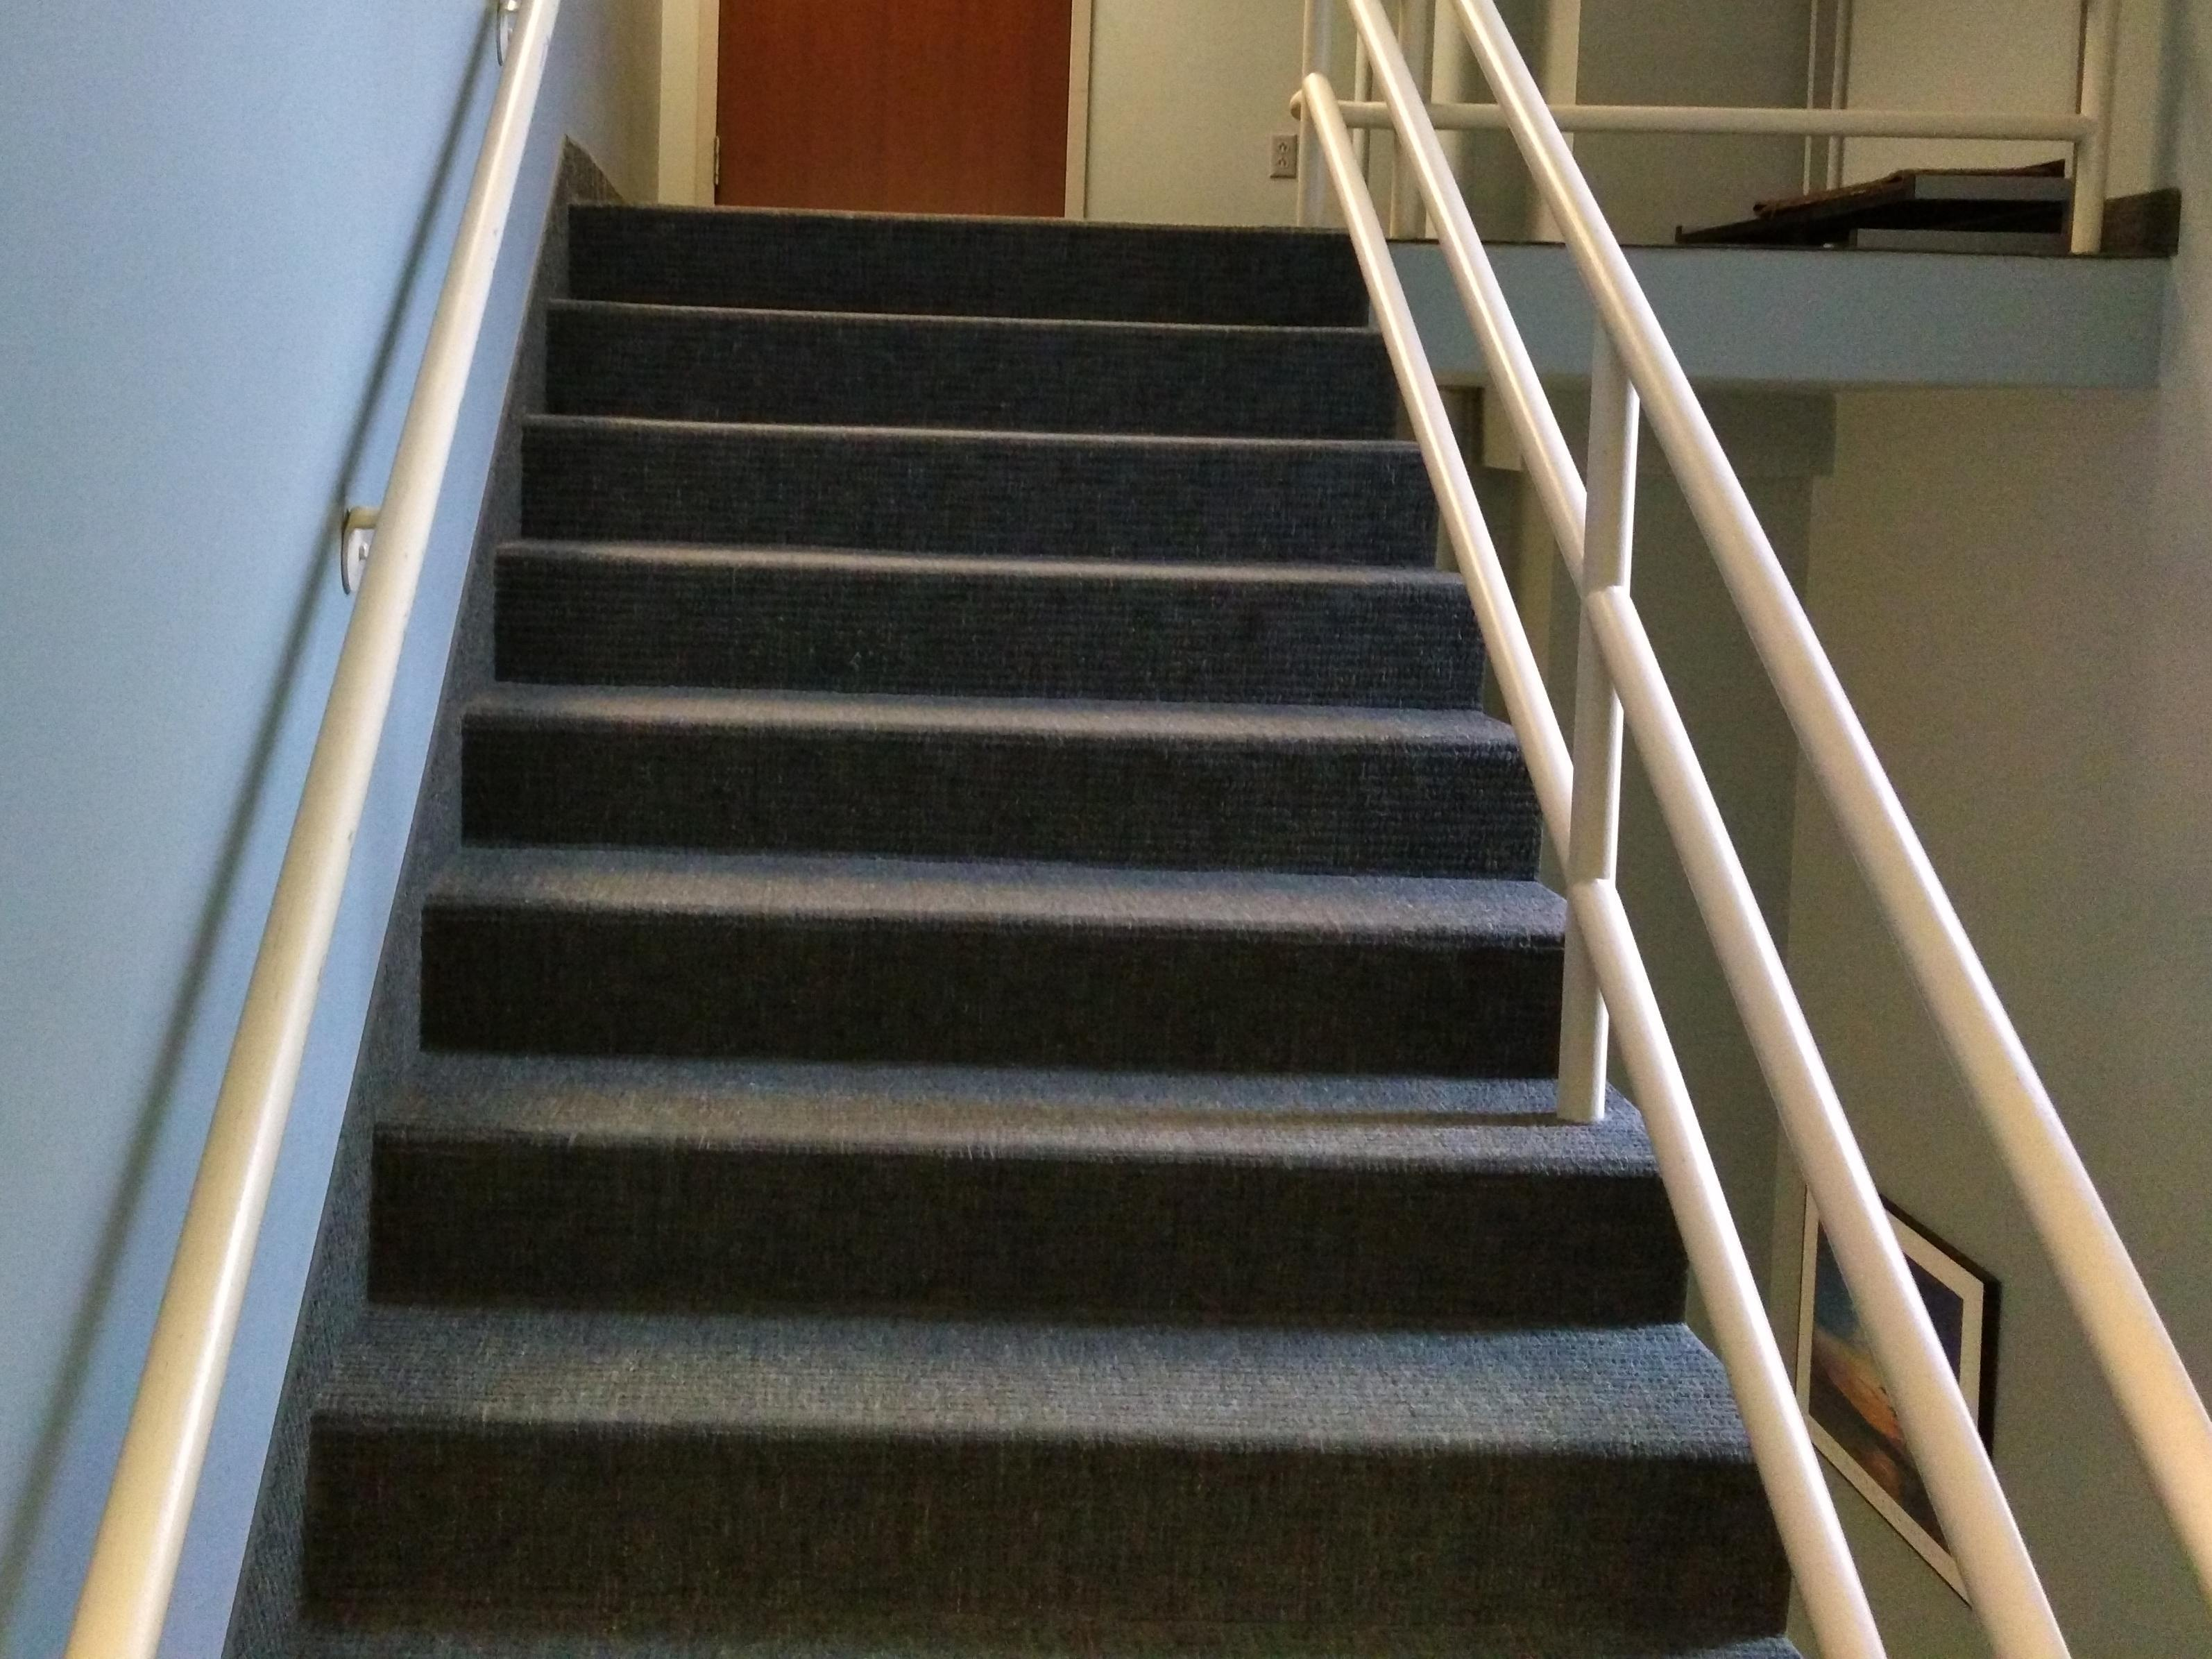stairs_up: (324, 96, 1778, 1622)
